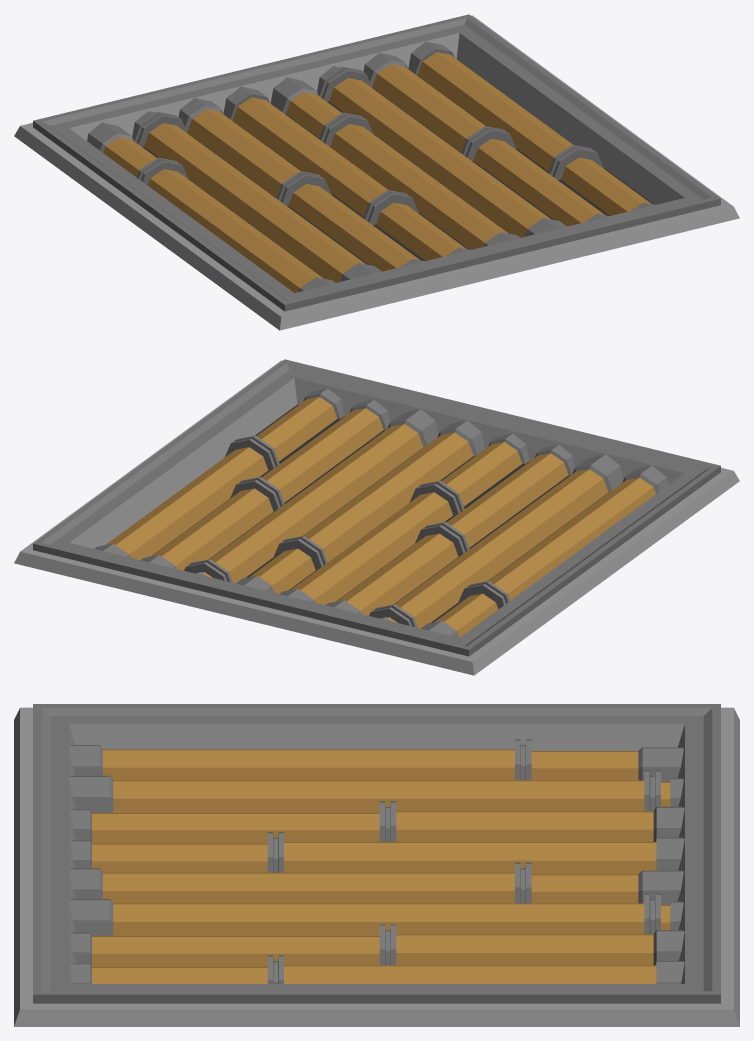
File: RoofTile_Pipes2.glb
3 views of the same model, one above another, from view 1: azimuth 30°, elevation 25°; view 2: azimuth 150°, elevation 25°; view 3: azimuth 270°, elevation 25° (orthographic). The views are drawn at different scales.
Parts seen in each view (by area): view 1: RoofTile_Pipes2; view 2: RoofTile_Pipes2; view 3: RoofTile_Pipes2.
Boxes of the visible parts, <box> form: RoofTile_Pipes2: <box>14,14,739,330</box>; RoofTile_Pipes2: <box>14,359,739,675</box>; RoofTile_Pipes2: <box>14,704,739,1026</box>.
Bounding box in the file's own units: 2 × 0.1148 × 2.
